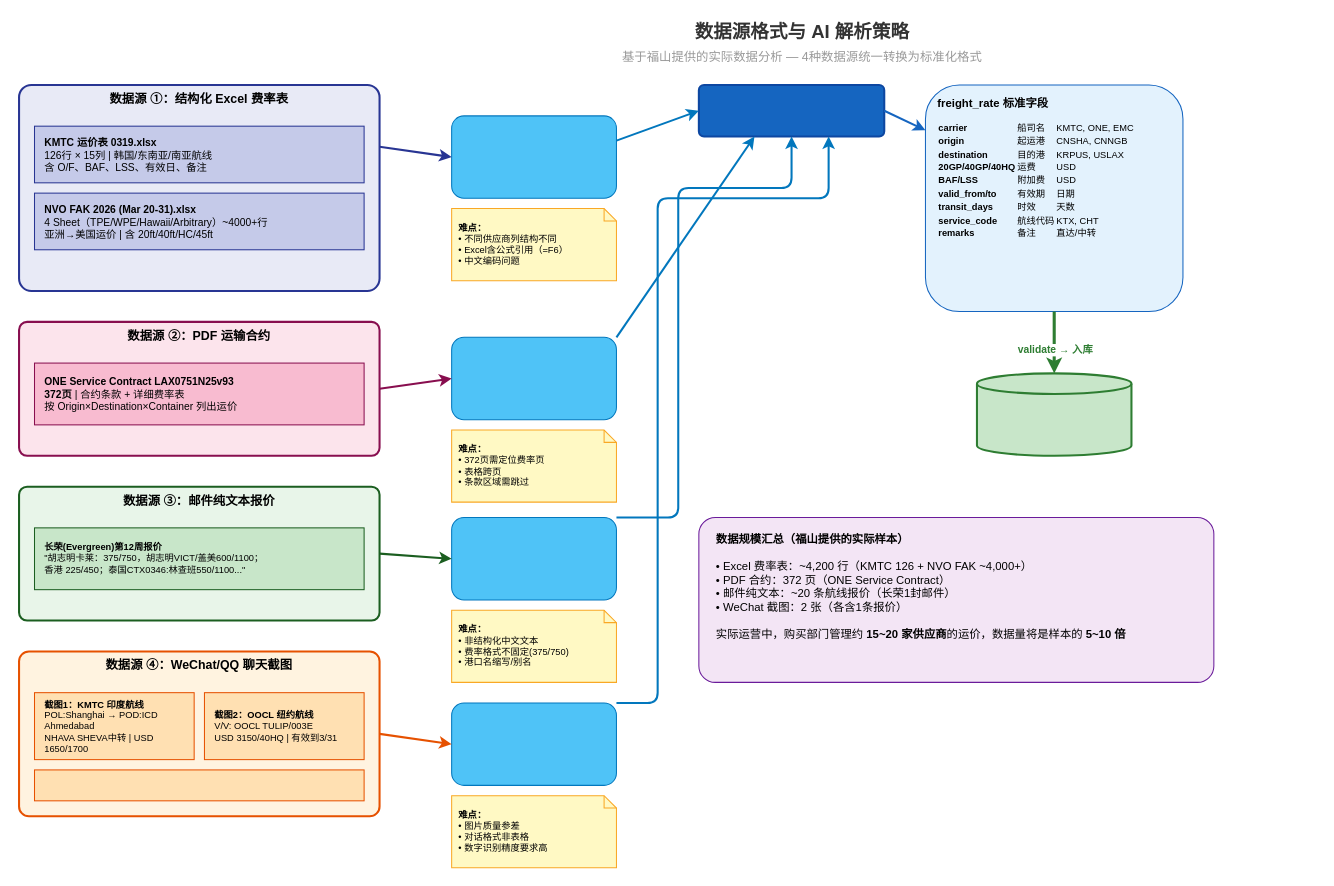
The diagram is 1334 pixels wide and 886 high, and some of its shapes have lost their labels. Here are the shapes that lost their labels. From the top down, the centre of each, then its label:
At point (791, 110): "统一标准化 Schema".
At point (533, 156): "parse_excel_tariff pandas + openpyxl 列名自动映射 公式求值".
At point (533, 378): "parse_pdf_contract pdfplumber 文本提取 + Claude 结构化识别 定位费率表区域".
At point (1053, 414): "PostgreSQL freight_rates".
At point (533, 558): "parse_email_text Claude NLP 实体识别 航线代码 + 港口 + 费率".
At point (533, 743): "parse_wechat_image Claude Vision 多模态识别 OCR + 语义理解".
At point (198, 785): "特点： 图片格式，含中文口语表达，信息零散但含关键费率".
